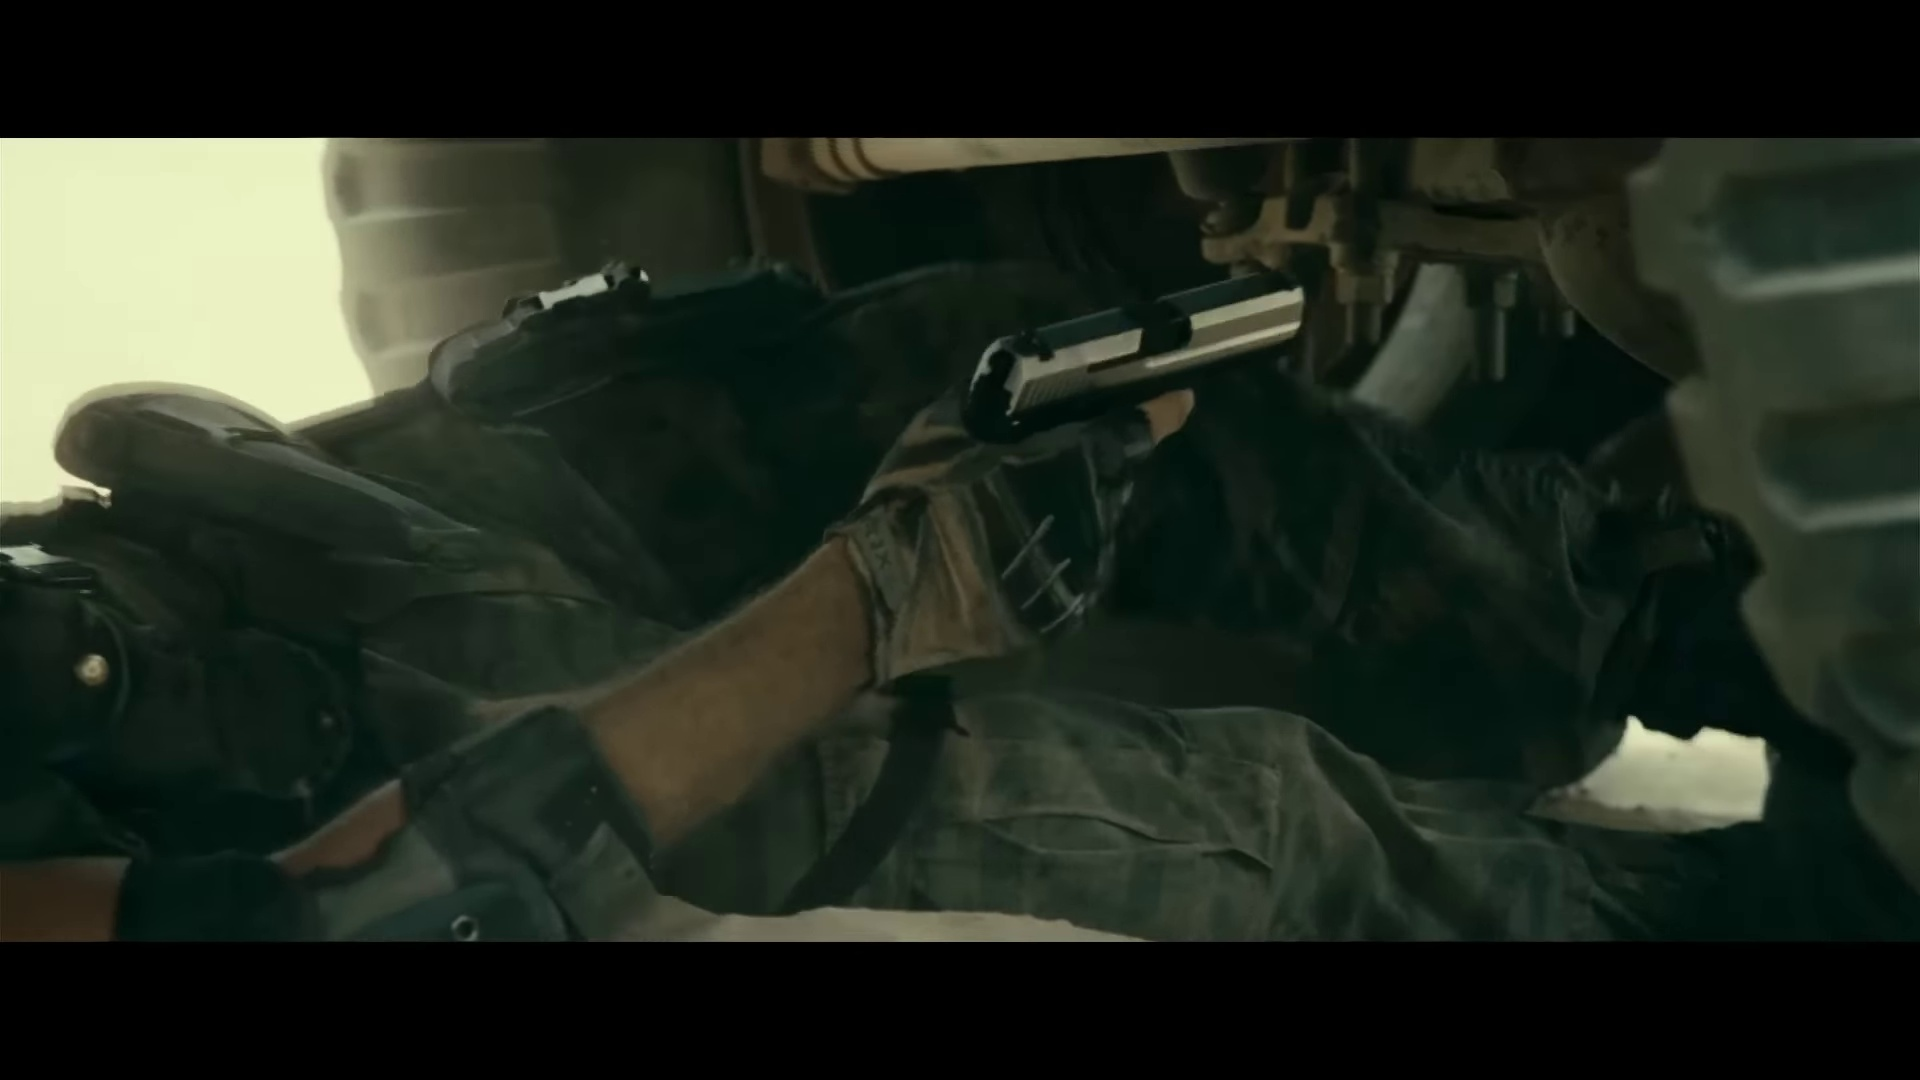gun: (955, 248, 1350, 479)
p_w_gun: (5, 239, 1760, 948)
